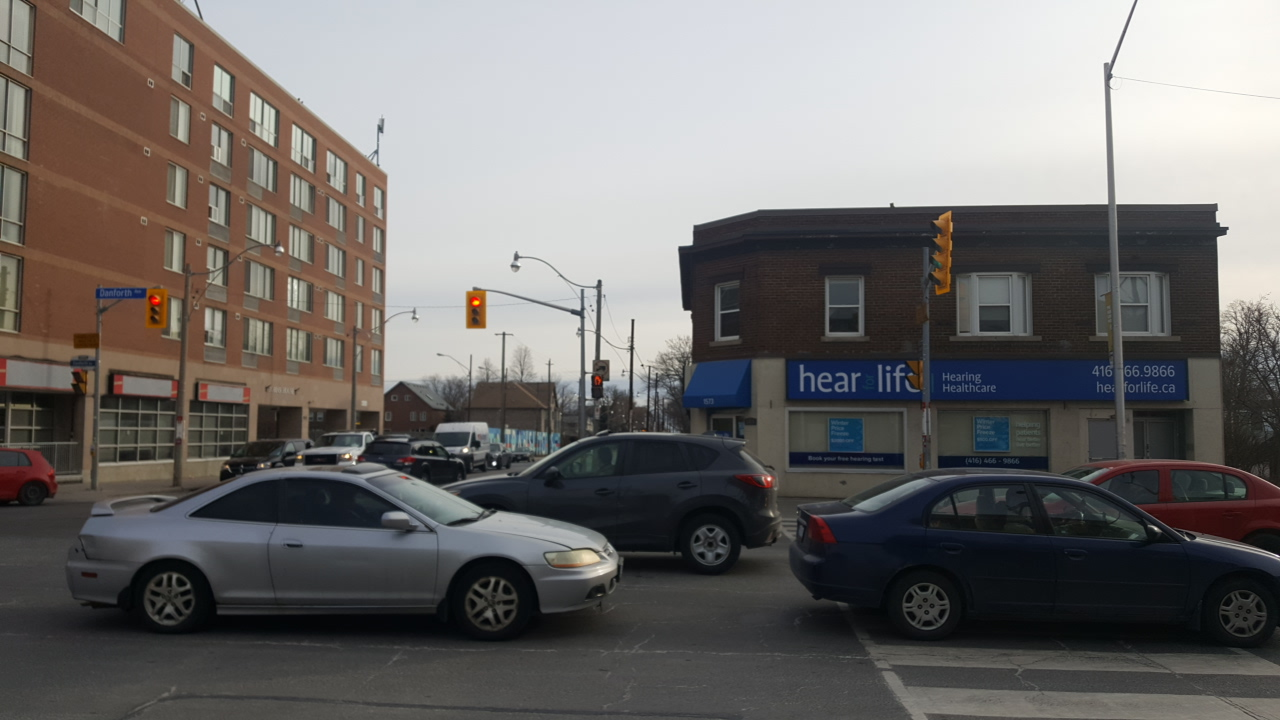light: (589, 371, 603, 401)
